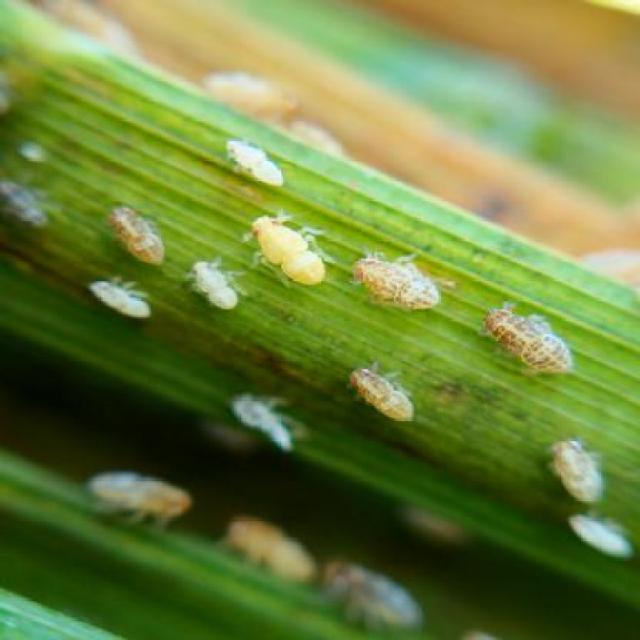wereng pada daun padi: (485, 305, 572, 372), (354, 254, 454, 309), (249, 215, 325, 286), (348, 358, 412, 420), (111, 206, 163, 263), (191, 258, 243, 309), (100, 282, 148, 315)
